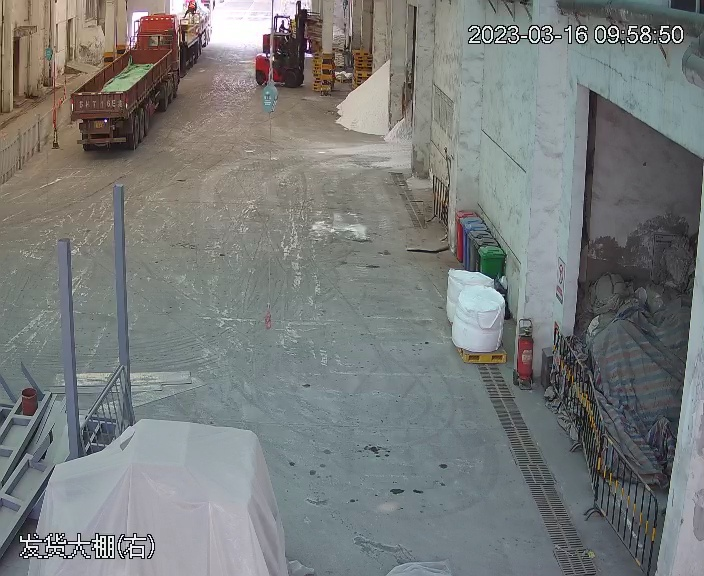truck: (60, 4, 210, 154)
